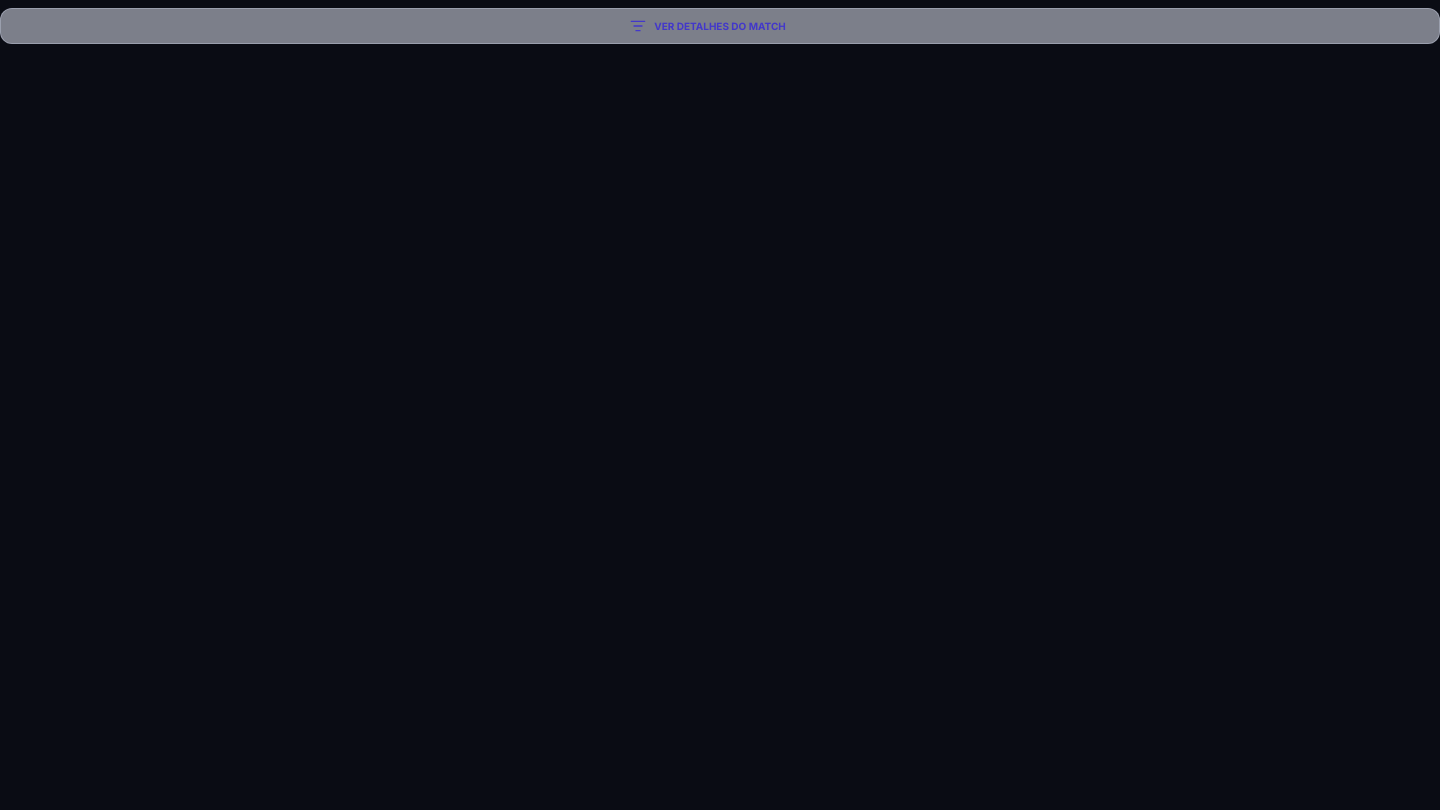
SocialMatchDetails › mostra o insight vindo de social_behavior_analysis com rotulo legivel
The image size is (1440, 810).
Click the button "VER DETALHES DO MATCH" at (720, 26), box [0,8,1439,44]
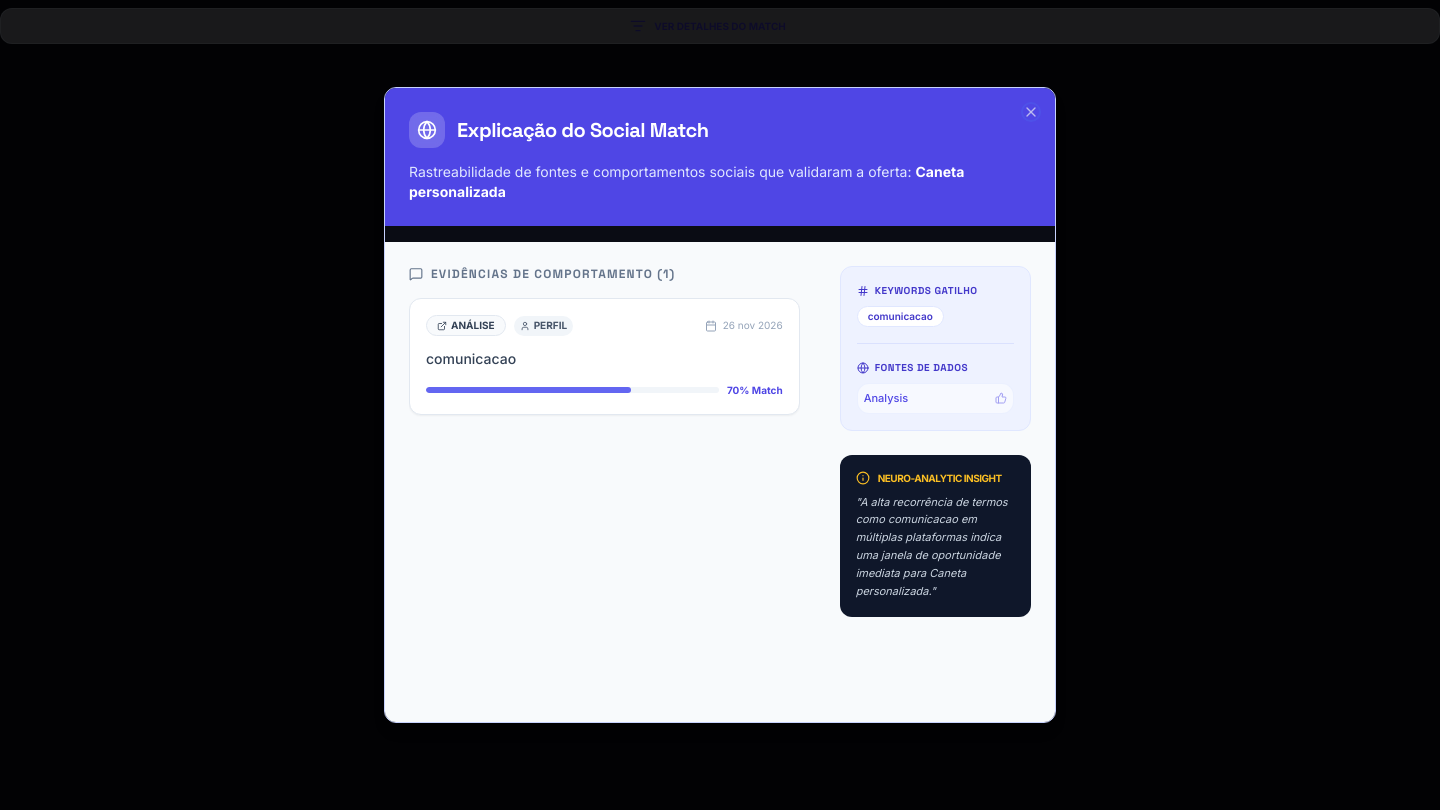
Result: the text "análise" is shown at [426,315,506,336]
Result: the text "perfil" is shown at [514,316,573,336]
Result: the text "comunicacao" below "análise" is shown at [426,350,516,367]
